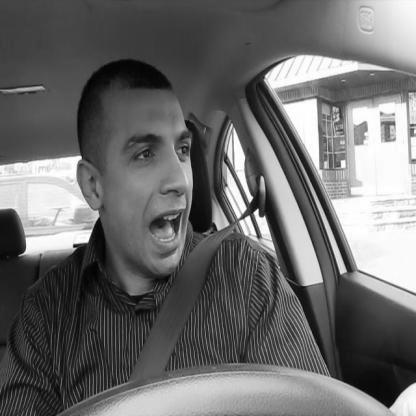seatbelt: (61, 39, 272, 397)
